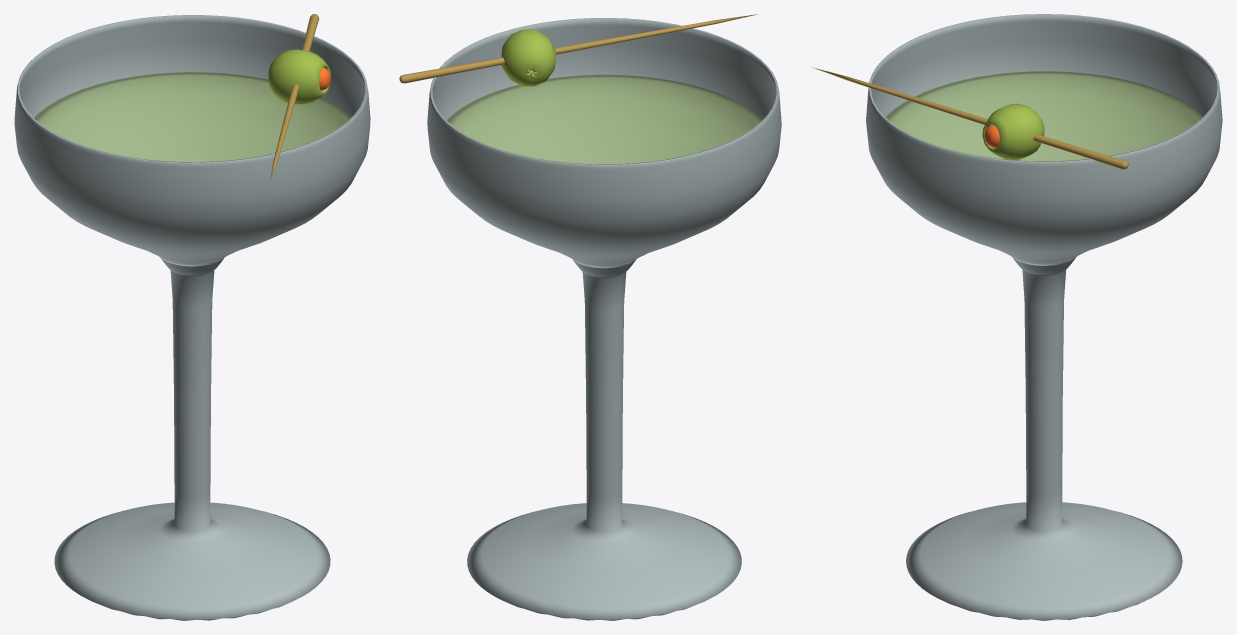
The model's file is martini.glb.
3 views of the same model, side by side, from view 1: azimuth 30°, elevation 25°; view 2: azimuth 150°, elevation 25°; view 3: azimuth 270°, elevation 25° (orthographic).
Visible parts, largest first — view 1: Cylinder.001, Cylinder, liquid, Cylinder.002, Sphere, Cylinder.003; view 2: Cylinder.001, Cylinder, liquid, Cylinder.002, Sphere, Cylinder.003; view 3: Cylinder.001, Cylinder, liquid, Cylinder.002, Sphere, Cylinder.003.
Boxes of the visible parts, x1=… form: Cylinder.001: x1=14, y1=16, x2=370, y2=265; Cylinder: x1=54, y1=257, x2=330, y2=620; liquid: x1=34, y1=72, x2=350, y2=161; Cylinder.002: x1=16, y1=15, x2=368, y2=171; Sphere: x1=268, y1=49, x2=330, y2=104; Cylinder.003: x1=270, y1=14, x2=319, y2=181; Cylinder.001: x1=427, y1=18, x2=781, y2=266; Cylinder: x1=467, y1=259, x2=741, y2=620; liquid: x1=447, y1=74, x2=762, y2=164; Cylinder.002: x1=429, y1=18, x2=779, y2=173; Sphere: x1=501, y1=29, x2=556, y2=86; Cylinder.003: x1=399, y1=14, x2=757, y2=83; Cylinder.001: x1=866, y1=14, x2=1222, y2=264; Cylinder: x1=906, y1=256, x2=1182, y2=620; liquid: x1=885, y1=71, x2=1202, y2=161; Cylinder.002: x1=867, y1=14, x2=1220, y2=170; Sphere: x1=982, y1=103, x2=1044, y2=160; Cylinder.003: x1=812, y1=67, x2=1128, y2=169.
Size of the model in its own units: 0.0977 by 0.1463 by 0.1086.
